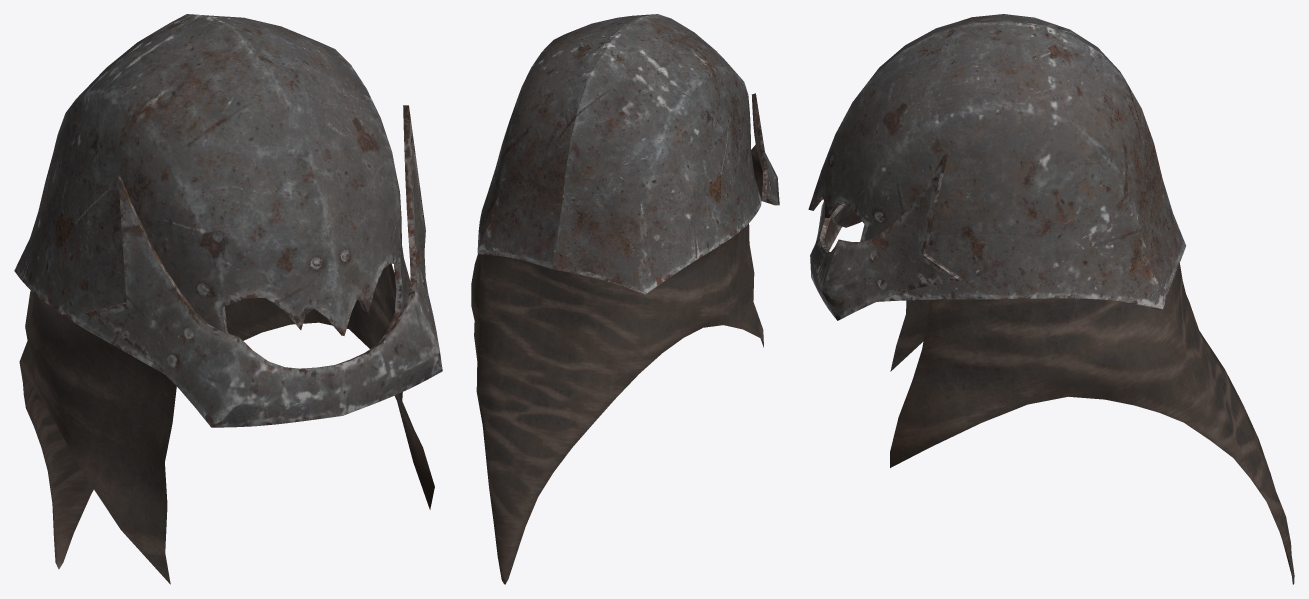
Rendered from sk_gb_uruk_helmet_med_e.fbx.
The picture shows the model from 3 angles, left to right: view 1: azimuth 30°, elevation 25°; view 2: azimuth 150°, elevation 25°; view 3: azimuth 270°, elevation 25°; orthographic projection. The views are drawn at different scales.
Parts seen in each view (by area): view 1: sk_gb_uruk_helmet_med_e; view 2: sk_gb_uruk_helmet_med_e; view 3: sk_gb_uruk_helmet_med_e.
Part boxes in pixels (left/top/right/bottom): sk_gb_uruk_helmet_med_e: left=14, top=14, right=442, bottom=584; sk_gb_uruk_helmet_med_e: left=471, top=14, right=779, bottom=584; sk_gb_uruk_helmet_med_e: left=808, top=14, right=1294, bottom=584.
Bounding box in the file's own units: 0.2562 × 0.3787 × 0.4836.
1 material, 1 textured.
